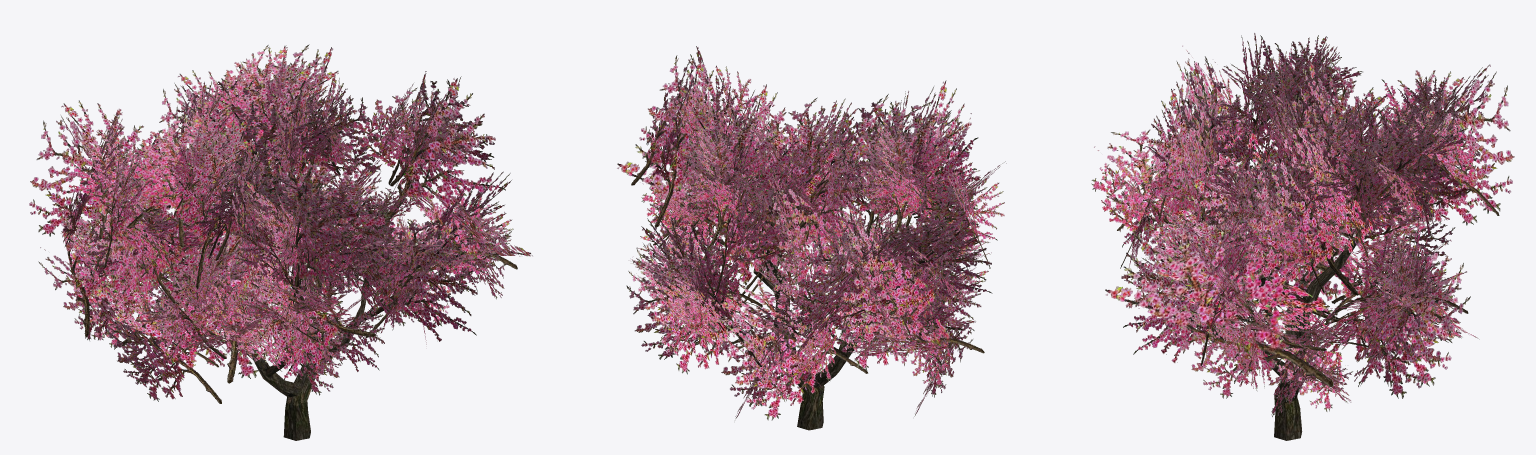
File: tree_d.FBX
The picture shows the model from 3 angles, left to right: view 1: azimuth 30°, elevation 25°; view 2: azimuth 150°, elevation 25°; view 3: azimuth 270°, elevation 25°; orthographic projection. The views are drawn at different scales.
Visible parts, largest first — view 1: tree_d; view 2: tree_d; view 3: tree_d.
Part boxes in pixels (box(x1,y1,x2,y2)): tree_d: box(29, 44, 532, 440); tree_d: box(617, 46, 1006, 430); tree_d: box(1091, 33, 1514, 440).
Bounding box in the file's own units: 27.62 × 21.93 × 24.22.
Materials: 2 (2 with a texture image).
